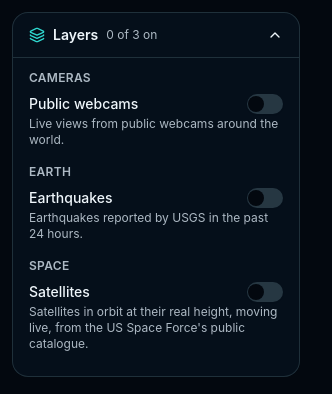
Test: LayerPanel › collapses and expands
Step 1. Click the button "Layers 0 of 3 on" → click(156, 35), box [13,13,299,57]
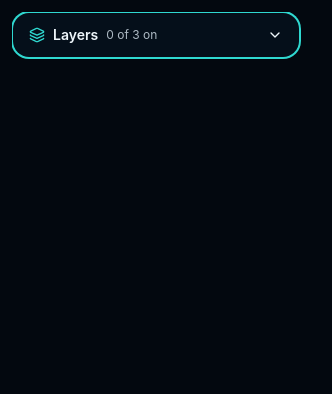
Now the button "Layers 0 of 3 on" is collapsed, box [13,13,299,57]
Now the switch is gone
